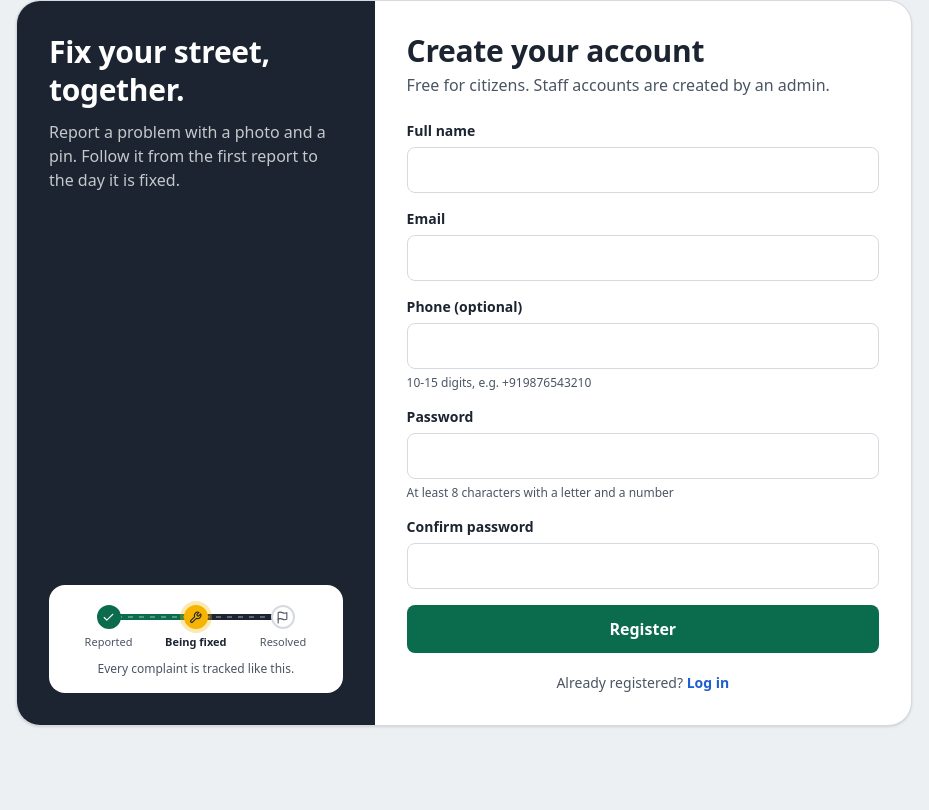
Scenario: register page › maps backend field errors onto the form
This screenshot has width=929, height=810.
Type "Asha Rao" into the field labelled "Full name" at (643, 170), box [407, 147, 879, 193]
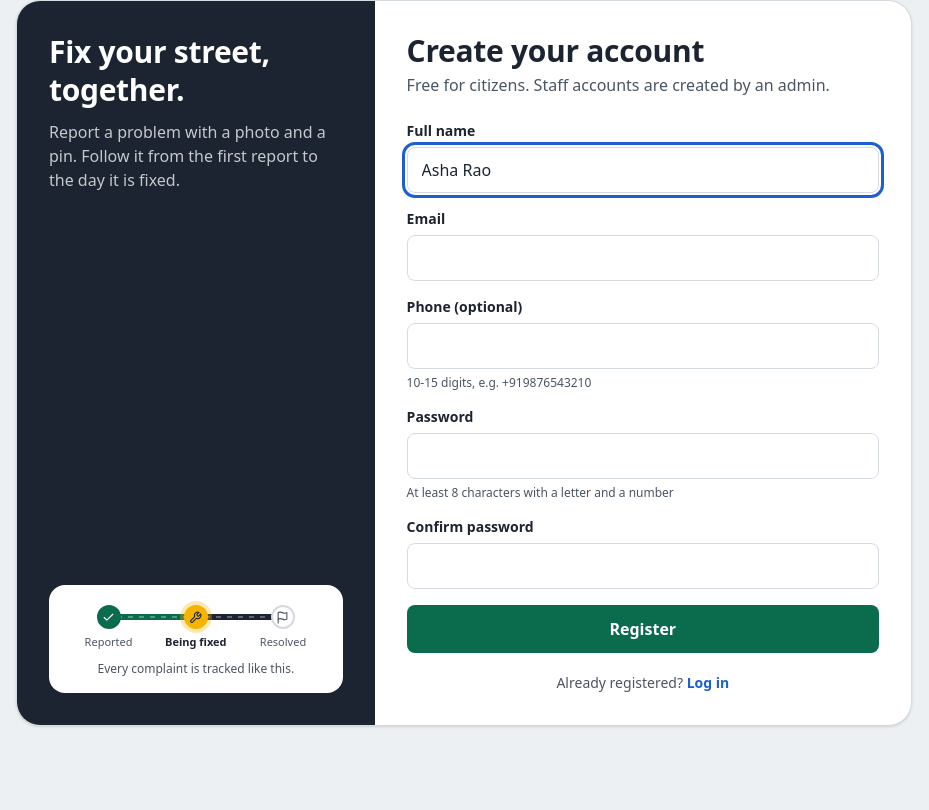
Type "a@e.co" into the field labelled "Email" at (643, 258), box [407, 235, 879, 281]
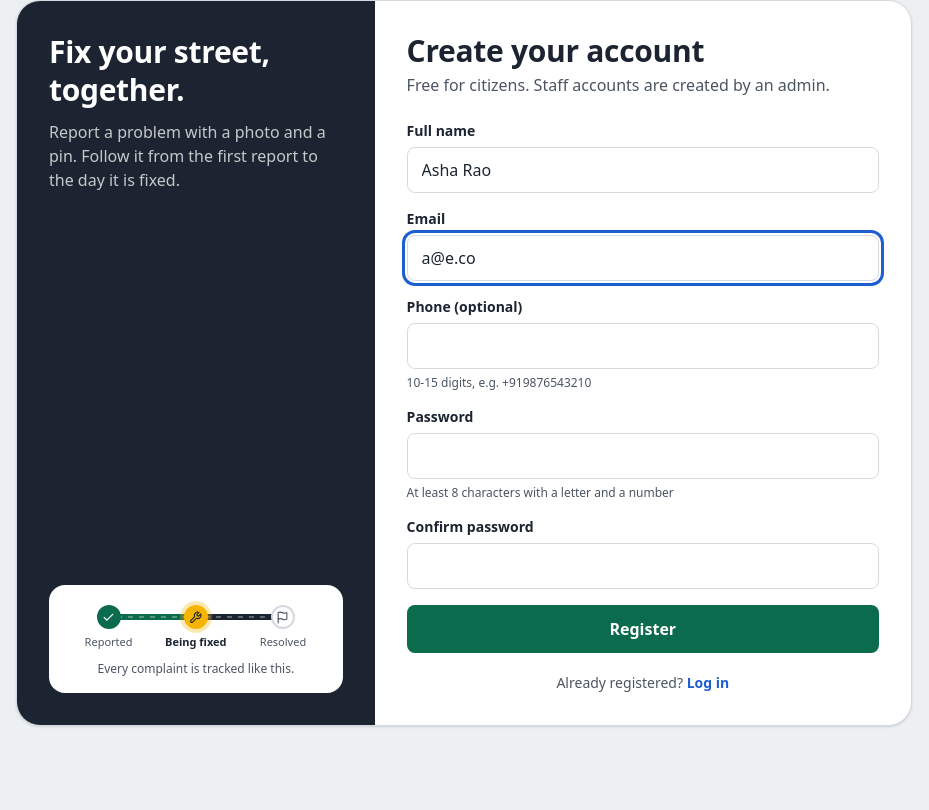
Type "secret123" into the password field labelled "Password" at (643, 456), box [407, 433, 879, 479]
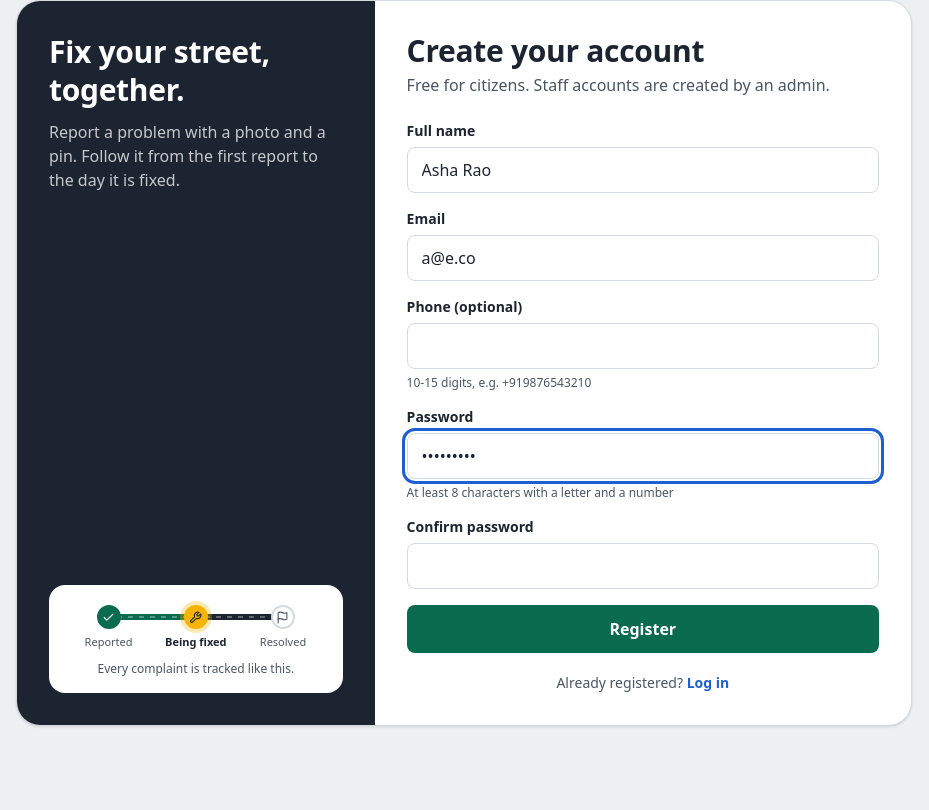
Type "secret123" into the password field labelled "Confirm password" at (643, 566), box [407, 543, 879, 589]
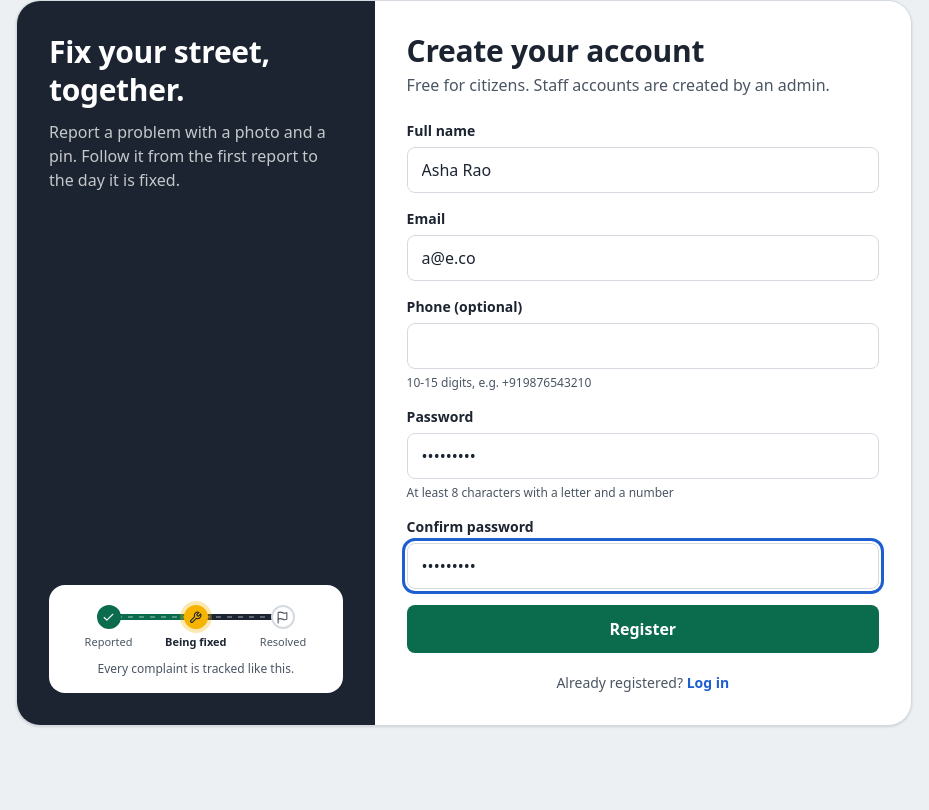
Click the button "Register" at (643, 629), box [407, 605, 879, 653]
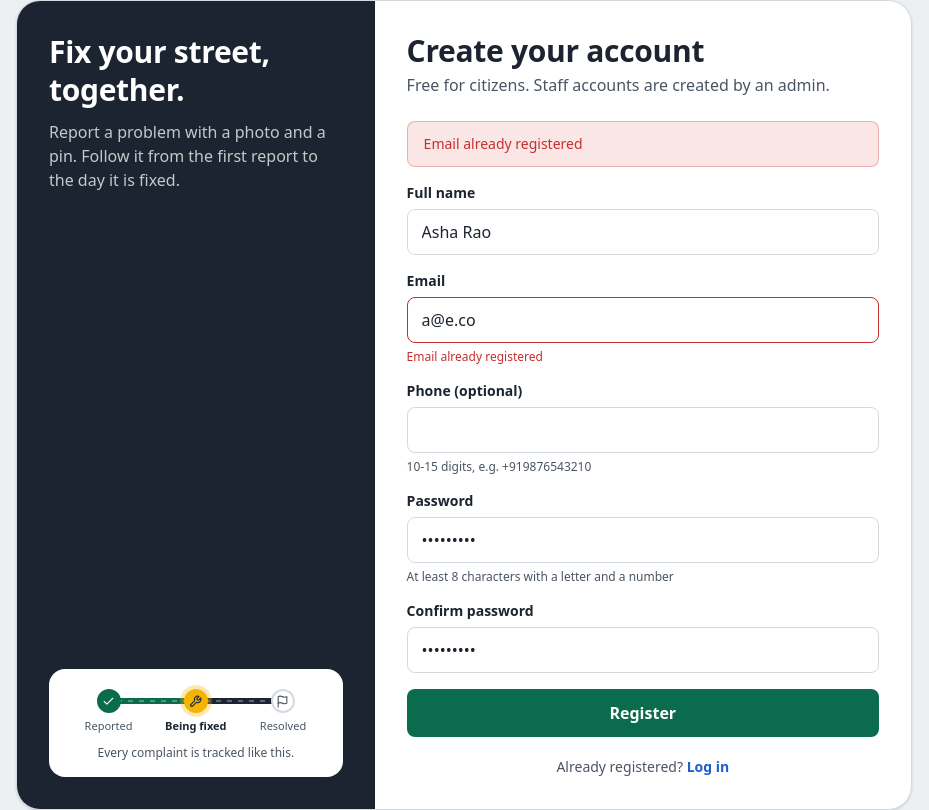
Result: the text "Email already registered" is shown at [407, 121, 879, 167]
